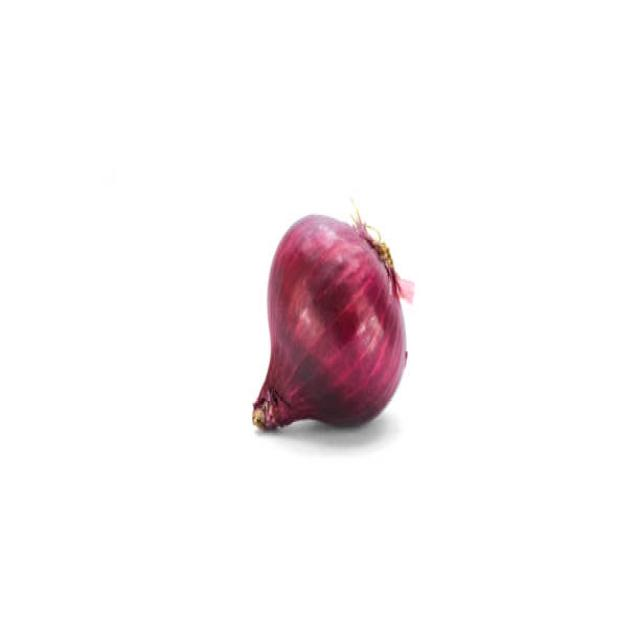onion: (247, 188, 412, 446)
